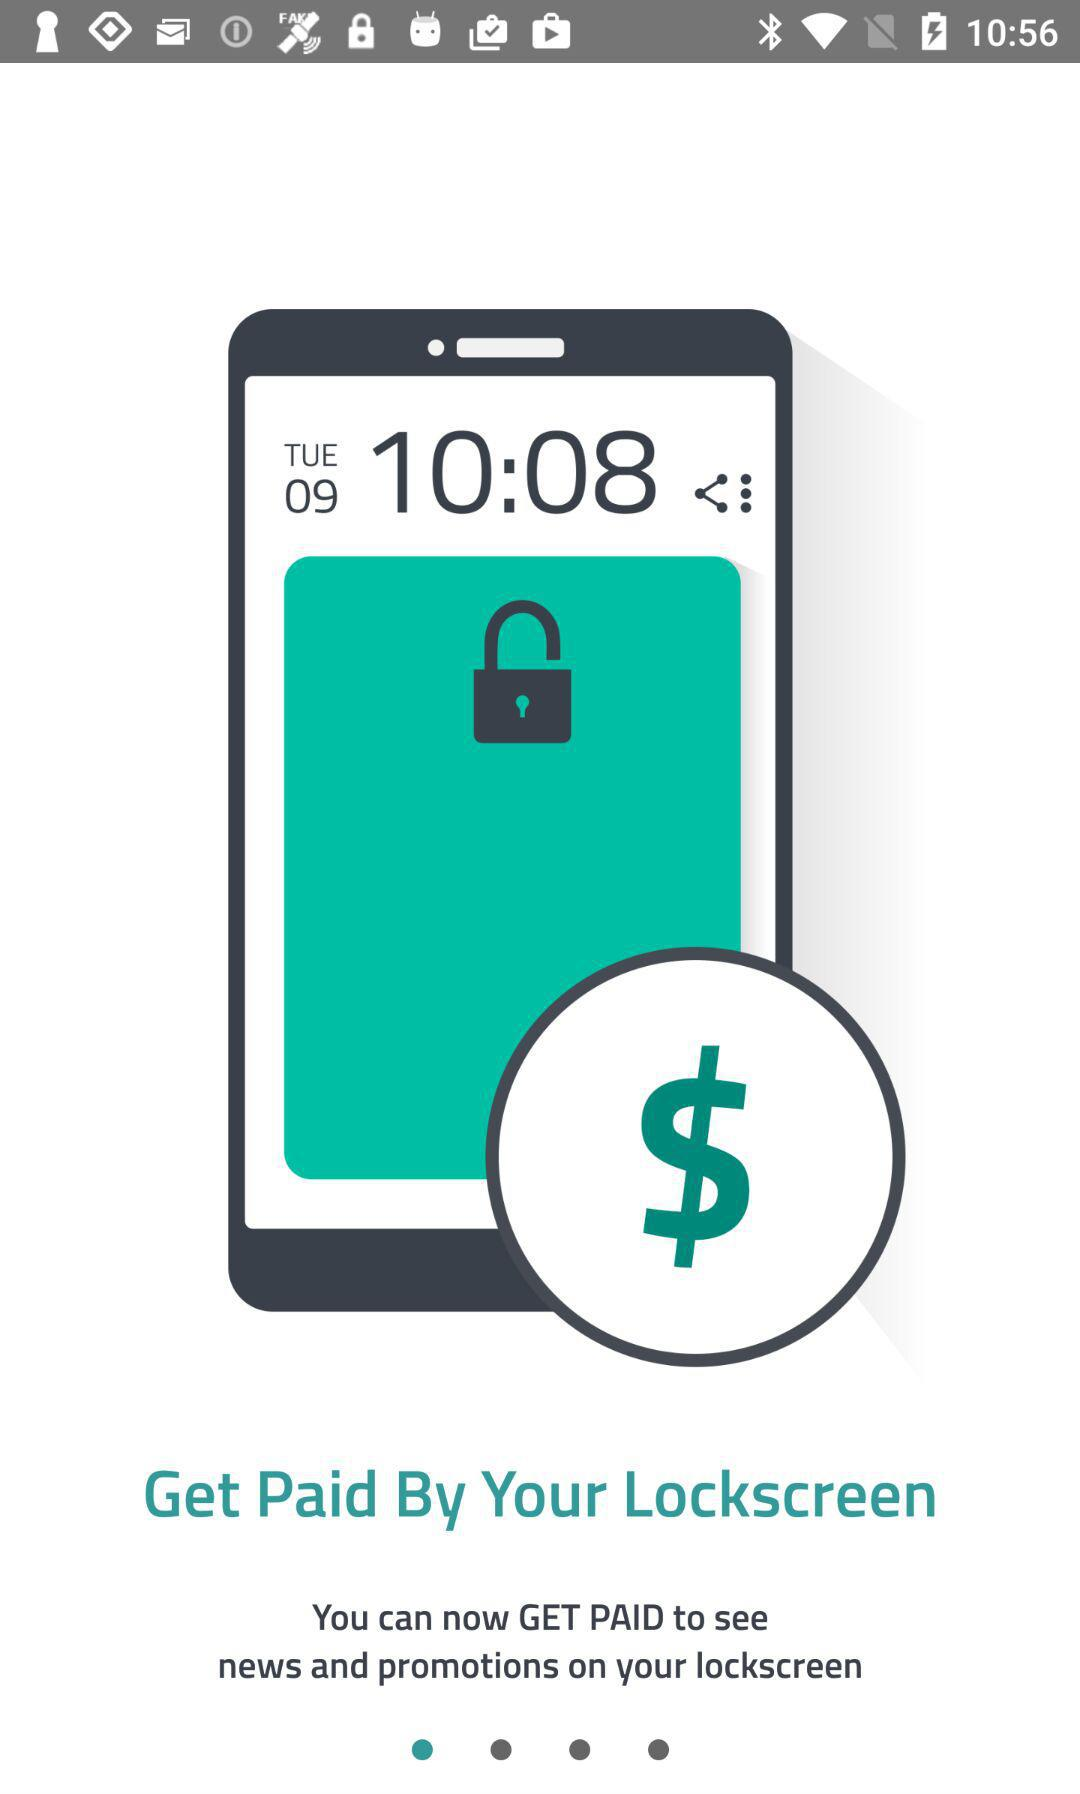Image: (225, 308, 907, 1369)
PageIndicator: (411, 1738, 671, 1762)
Text: (217, 1601, 861, 1686), (143, 1467, 937, 1535)
UpperTaskBar: (1, 1, 1080, 64)
